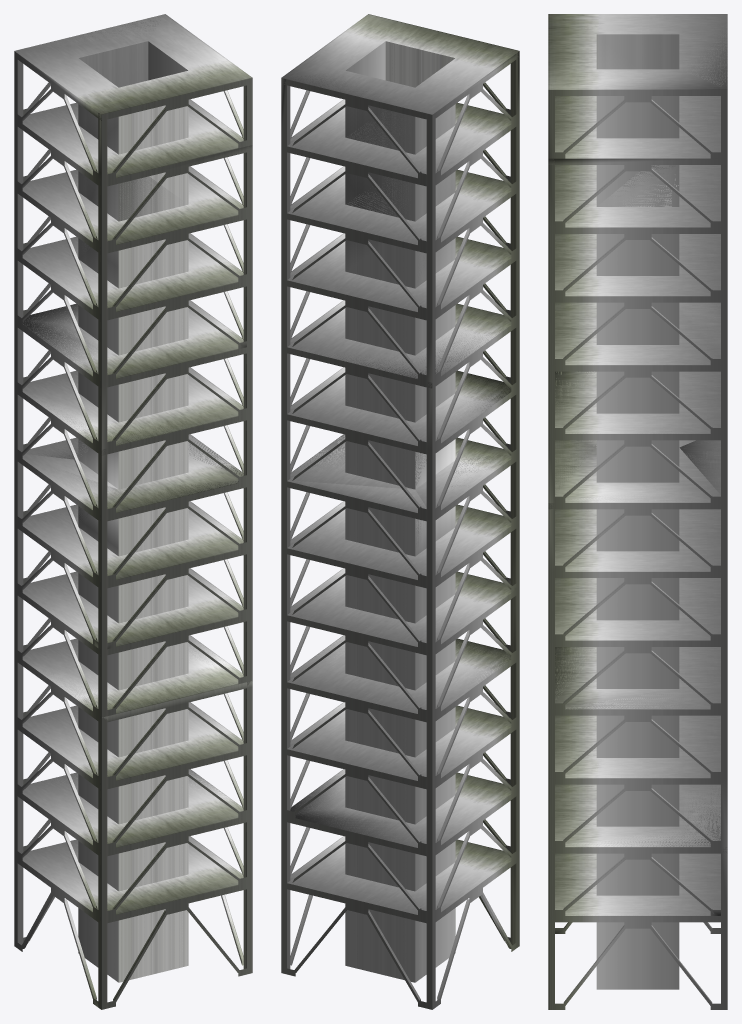
File: tower.obj
The picture shows the model from 3 angles, left to right: view 1: azimuth 30°, elevation 25°; view 2: azimuth 150°, elevation 25°; view 3: azimuth 270°, elevation 25°; orthographic projection. The views are drawn at different scales.
Visible parts, largest first — view 1: GANTRY01; view 2: GANTRY01; view 3: GANTRY01.
Boxes of the visible parts, x1=… form: GANTRY01: x1=14, y1=14, x2=252, y2=1009; GANTRY01: x1=281, y1=14, x2=519, y2=1009; GANTRY01: x1=548, y1=14, x2=727, y2=1009.
Size of the model in its own units: 1.99 by 11.25 by 1.99.
